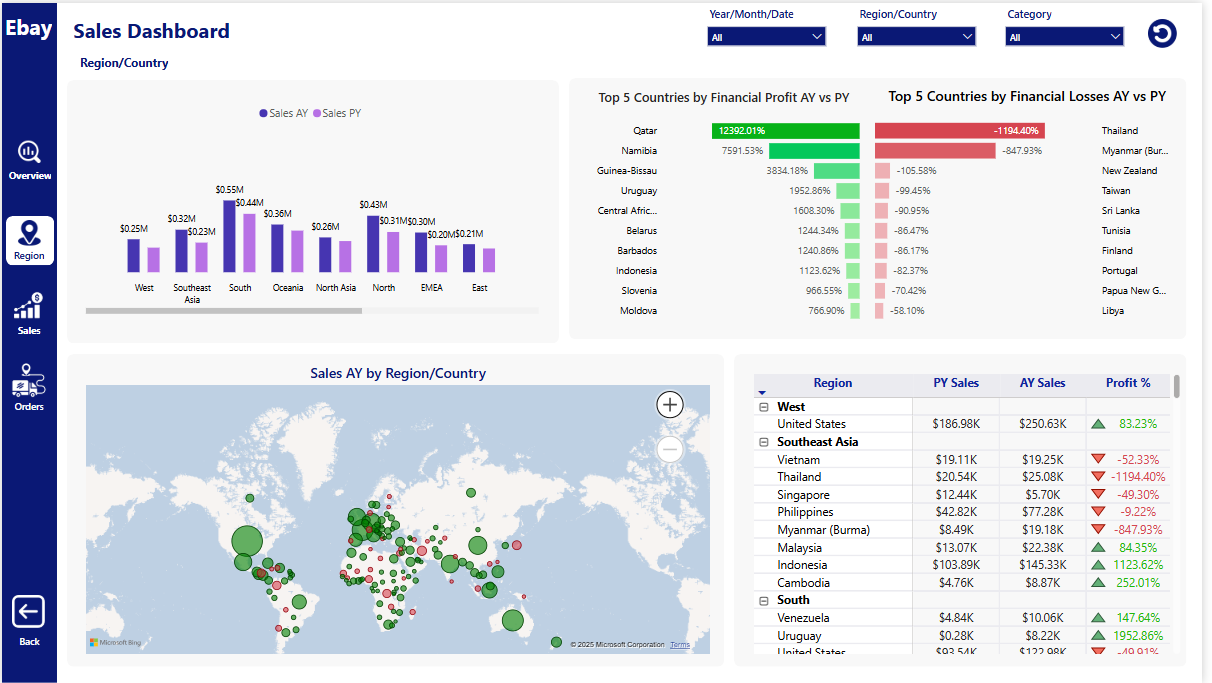

The page's visual inventory and layout, read from the dashboard file:
{"tool":"powerbi","page":{"name":"Region/Country","canvas":[1500,850],"ordinal":2},"visuals":[{"type":"slicer","fields":{"Values":["Sales.Order Year","Sales.Month","Sales.Order Date"]},"box":[871.1,0,168.7,54.2],"z":0,"group":"g2"},{"type":"shape","box":[708.6,93.2,771.8,326.7],"z":0,"group":"g1"},{"type":"shape","box":[914.7,438.3,565.6,391.1],"z":0},{"type":"slicer","fields":{"Values":["Sales.Region","Sales.Country"]},"box":[1058.7,0,169.3,54.2],"z":1000,"group":"g2"},{"type":"shape","box":[81.4,438.3,821.5,391.1],"z":1000},{"type":"slicer","fields":{"Values":["Sales.Category"]},"box":[1243.2,0,169.3,54.2],"z":2000,"group":"g2"},{"type":"map","title":"Sales AY by Region/Country","fields":{"Category":["Tableau Datasets (1).Country"],"Size":["profit margin.Sales Thi year"]},"box":[99.7,450.1,790,368.8],"z":2000},{"type":"image","box":[1422.6,14.4,55.1,45.9],"z":3000,"group":"g2"},{"type":"shape","box":[81.4,95.9,615,329.3],"z":3000,"group":"g1"},{"type":"pivotTable","fields":{"Rows":["Tableau Datasets (1).Region","Tableau Datasets (1).Country"],"Values":["profit margin.Sales pre year","profit margin.Sales Thi year","profit margin.AY VS PY Profit"]},"box":[934.4,459.3,543.3,359.6],"z":3000},{"type":"shape","box":[0,0,68.7,849.6],"z":4000},{"type":"shape","box":[4.5,266.3,60.2,61.7],"z":5000},{"type":"clusteredColumnChart","fields":{"Y":["profit margin.Sales Thi year","profit margin.Sales pre year"],"Category":["Tableau Datasets (1).Region"]},"box":[98.5,117.5,577.1,276.4],"z":6000,"group":"g1"},{"type":"shape","box":[1.5,203.1,67.7,24.1],"z":6000},{"type":"clusteredBarChart","title":"Top 5 Countries by Financial Profit AY vs PY","fields":{"Category":["Tableau Datasets (1).Country"],"Y":["profit margin.AY VS PY Profit"]},"box":[727.8,105.6,349.6,303.7],"z":7000,"group":"g1"},{"type":"shape","box":[0,293.9,67.7,42.1],"z":7000},{"type":"clusteredBarChart","title":"Top 5 Countries by Financial Losses AY vs PY","fields":{"Category":["Tableau Datasets (1).Country"],"Y":["profit margin.AY VS PY Profit"]},"box":[1087,103.1,390.5,306.2],"z":8000,"group":"g1"},{"type":"shape","box":[0,391.2,67.7,33.1],"z":8000},{"type":"shape","box":[0,492,67.7,21.1],"z":9000},{"type":"image","box":[0,353.6,66.2,48.1],"z":10000},{"type":"image","box":[1.5,445.3,64.7,52.7],"z":11000},{"type":"image","box":[6,165.5,55.7,42.1],"z":12000},{"type":"image","box":[6,266.3,55.7,42.1],"z":13000},{"type":"shape","box":[75.2,4.5,224.2,57.2],"z":14000},{"type":"shape","box":[73.7,58.7,158,30.1],"z":15000},{"type":"group","id":"g1","title":"Group 1","box":[81.4,93.2,1399,332],"z":16000},{"type":"shape","box":[3,0,61.7,57.2],"z":17000},{"type":"group","id":"g2","title":"Group 1","box":[871.1,0,606.6,60.4],"z":18000},{"type":"actionButton","box":[0,162.5,67.7,64.7],"z":19000},{"type":"actionButton","box":[0,353.6,67.7,64.7],"z":20000},{"type":"actionButton","box":[0,449.8,67.7,64.7],"z":21000},{"type":"image","box":[7.9,734.9,51.2,51.2],"z":22000},{"type":"shape","box":[1.5,783.9,66.2,28.6],"z":23000},{"type":"actionButton","box":[3,728.2,63.2,84.3],"z":24000}]}

Visuals, with their boxes on the page's 1500x850 design canvas (x1, y1, x2, y2). These are canvas units, not pixel positions in the 1212x683 screenshot, which may show the page scaled, cropped or inside an application window:
slicer - Sales.Order Year x Sales.Month: select_region(871, 0, 1040, 54)
shape: select_region(709, 93, 1480, 420)
shape: select_region(915, 438, 1480, 829)
slicer - Sales.Region x Sales.Country: select_region(1059, 0, 1228, 54)
shape: select_region(81, 438, 903, 829)
slicer - Sales.Category: select_region(1243, 0, 1412, 54)
"Sales AY by Region/Country" map: select_region(100, 450, 890, 819)
image: select_region(1423, 14, 1478, 60)
shape: select_region(81, 96, 696, 425)
pivotTable - Tableau Datasets (1).Region x Tableau Datasets (1).Country: select_region(934, 459, 1478, 819)
shape: select_region(0, 0, 69, 850)
shape: select_region(4, 266, 65, 328)
clusteredColumnChart - profit margin.Sales Thi year x profit margin.Sales pre year: select_region(98, 118, 676, 394)
shape: select_region(2, 203, 69, 227)
"Top 5 Countries by Financial Profit AY vs PY" clusteredBarChart: select_region(728, 106, 1077, 409)
shape: select_region(0, 294, 68, 336)
"Top 5 Countries by Financial Losses AY vs PY" clusteredBarChart: select_region(1087, 103, 1478, 409)
shape: select_region(0, 391, 68, 424)
shape: select_region(0, 492, 68, 513)
image: select_region(0, 354, 66, 402)
image: select_region(2, 445, 66, 498)
image: select_region(6, 166, 62, 208)
image: select_region(6, 266, 62, 308)
shape: select_region(75, 4, 299, 62)
shape: select_region(74, 59, 232, 89)
"Group 1" group: select_region(81, 93, 1480, 425)
shape: select_region(3, 0, 65, 57)
"Group 1" group: select_region(871, 0, 1478, 60)
actionButton: select_region(0, 162, 68, 227)
actionButton: select_region(0, 354, 68, 418)
actionButton: select_region(0, 450, 68, 514)
image: select_region(8, 735, 59, 786)
shape: select_region(2, 784, 68, 812)
actionButton: select_region(3, 728, 66, 812)
